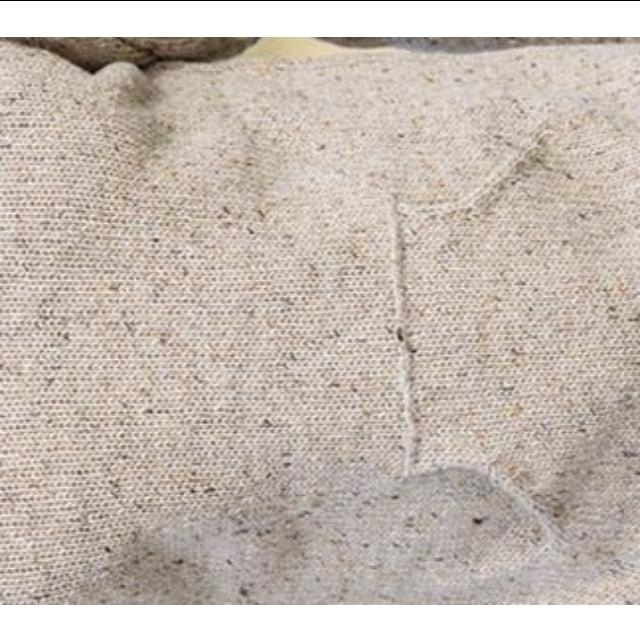wool: (0, 36, 640, 604)
